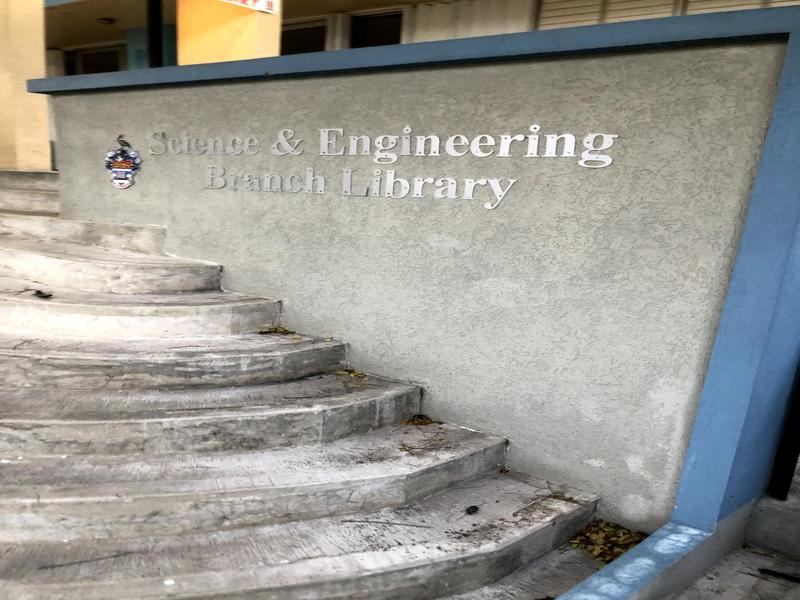18.0053644_-76.7493880_librarysign: (134, 124, 636, 203)
